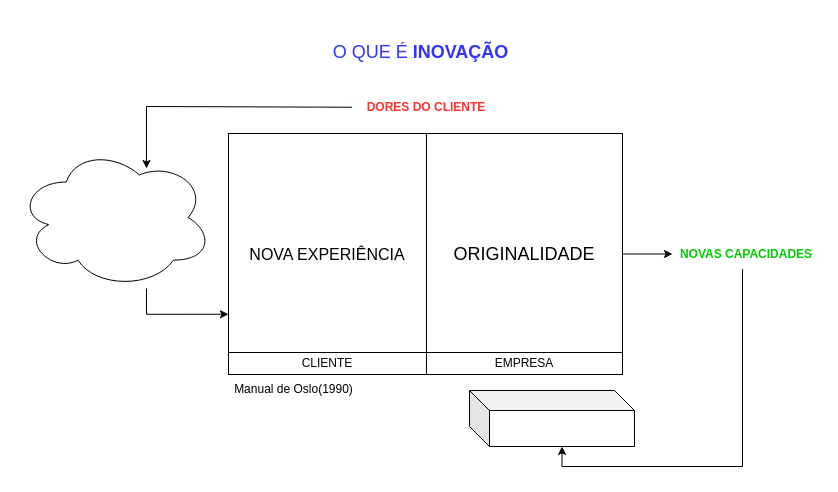
Image size: 838x492. Some labels were removed from this diagram. The centre of each missing label's shape, as x and y in pixels:
1) Produtos 2) Serviços 3) Conteúdo: the point at 114,217
Processos (Alterar, Substituir, Implementar): the point at 551,418
